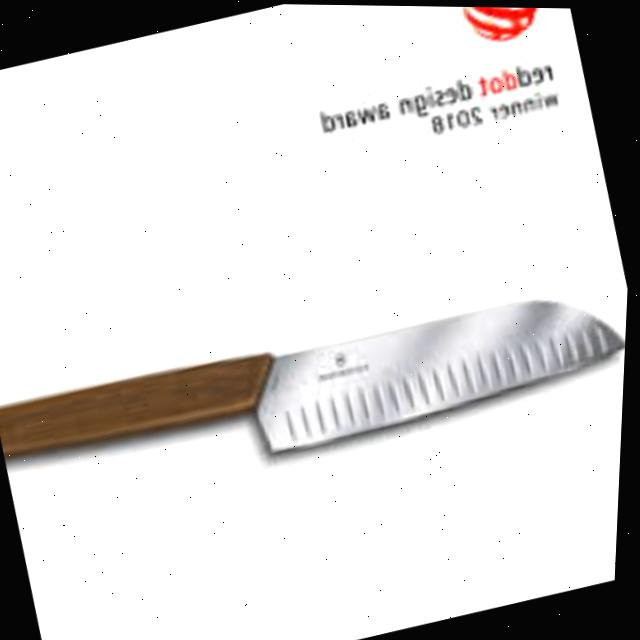Knife: (0, 251, 631, 520)
